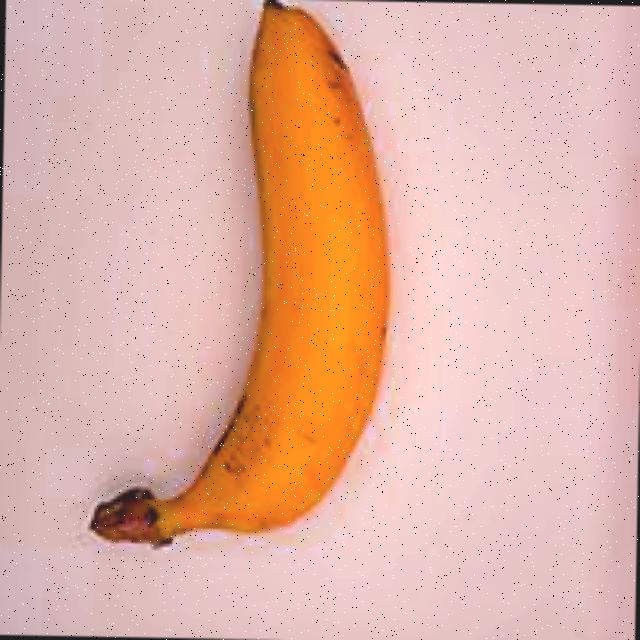Ripe: (77, 0, 429, 573)
